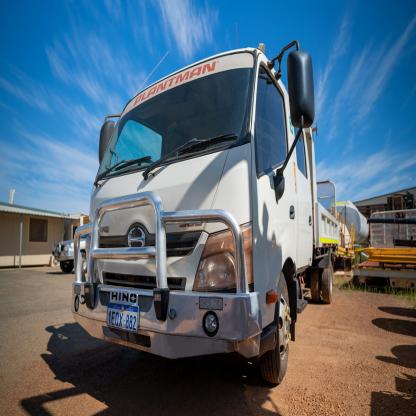dump_truck: (61, 34, 344, 396)
